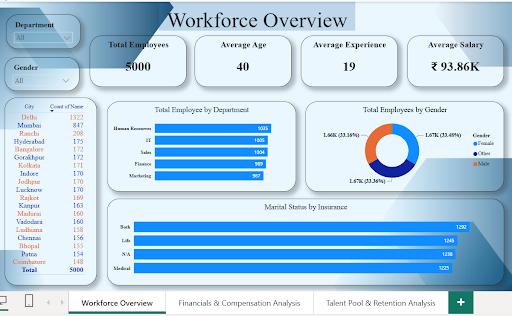

The page's visual inventory and layout, read from the dashboard file:
{"tool":"powerbi","page":{"name":"Workforce Overview","canvas":[1280,720],"ordinal":0},"visuals":[{"type":"shape","title":"Workforce Overview","box":[396,0,488,72],"z":0},{"type":"slicer","fields":{"Values":["Employee_Data.Department"]},"box":[15.1,32.1,185.2,85],"z":1000},{"type":"slicer","fields":{"Values":["Employee_Data.Gender"]},"box":[13.2,138,185.2,83.2],"z":2000},{"type":"cardVisual","title":"Average Age","fields":{"Data":["Avg(Employee_Data.Age)"]},"box":[519.7,83.2,183.3,126.6],"z":3000},{"type":"cardVisual","title":"Total Employees","fields":{"Data":["CountNonNull(Employee_Data.Name)"]},"box":[234.3,85,183.3,119.1],"z":4000},{"type":"cardVisual","title":"Average Experience","fields":{"Data":["Avg(Employee_Data.Year of Experience)"]},"box":[781,82.7,182.9,127.2],"z":5000},{"type":"clusteredBarChart","title":"Total Employee by Department","fields":{"Category":["Employee_Data.Department"],"Y":["CountNonNull(Employee_Data.Name)"]},"box":[266.5,247.6,436.5,224.9],"z":6000},{"type":"cardVisual","title":"Average Salary","fields":{"Data":["Avg(Employee_Data.Salary)"]},"box":[1048.2,84.3,205.2,125.7],"z":7000},{"type":"donutChart","title":"Total Employees by Gender","fields":{"Category":["Employee_Data.Gender"],"Y":["CountNonNull(Employee_Data.Name)"]},"box":[793.7,247.6,459.2,224.9],"z":8000},{"type":"pivotTable","fields":{"Rows":["Employee_Data.City"],"Values":["CountNonNull(Employee_Data.Name)"]},"box":[13.2,238.1,228.7,466.8],"z":9000},{"type":"barChart","title":"Marital Status by Insurance","fields":{"Category":["Employee_Data.Insurance"],"Y":["CountNonNull(Employee_Data.Marital Status)"]},"box":[266.5,489.5,986.5,215.4],"z":10000}]}

Visuals, with their boxes on the page's 1280x720 design canvas (x1, y1, x2, y2). These are canvas units, not pixel positions in the 512x316 screenshot, which may show the page scaled, cropped or inside an application window:
"Workforce Overview" shape: detection(396, 0, 884, 72)
slicer - Employee_Data.Department: detection(15, 32, 200, 117)
slicer - Employee_Data.Gender: detection(13, 138, 198, 221)
"Average Age" cardVisual: detection(520, 83, 703, 210)
"Total Employees" cardVisual: detection(234, 85, 418, 204)
"Average Experience" cardVisual: detection(781, 83, 964, 210)
"Total Employee by Department" clusteredBarChart: detection(266, 248, 703, 472)
"Average Salary" cardVisual: detection(1048, 84, 1253, 210)
"Total Employees by Gender" donutChart: detection(794, 248, 1253, 472)
pivotTable - Employee_Data.City x CountNonNull(Employee_Data.Name): detection(13, 238, 242, 705)
"Marital Status by Insurance" barChart: detection(266, 490, 1253, 705)
